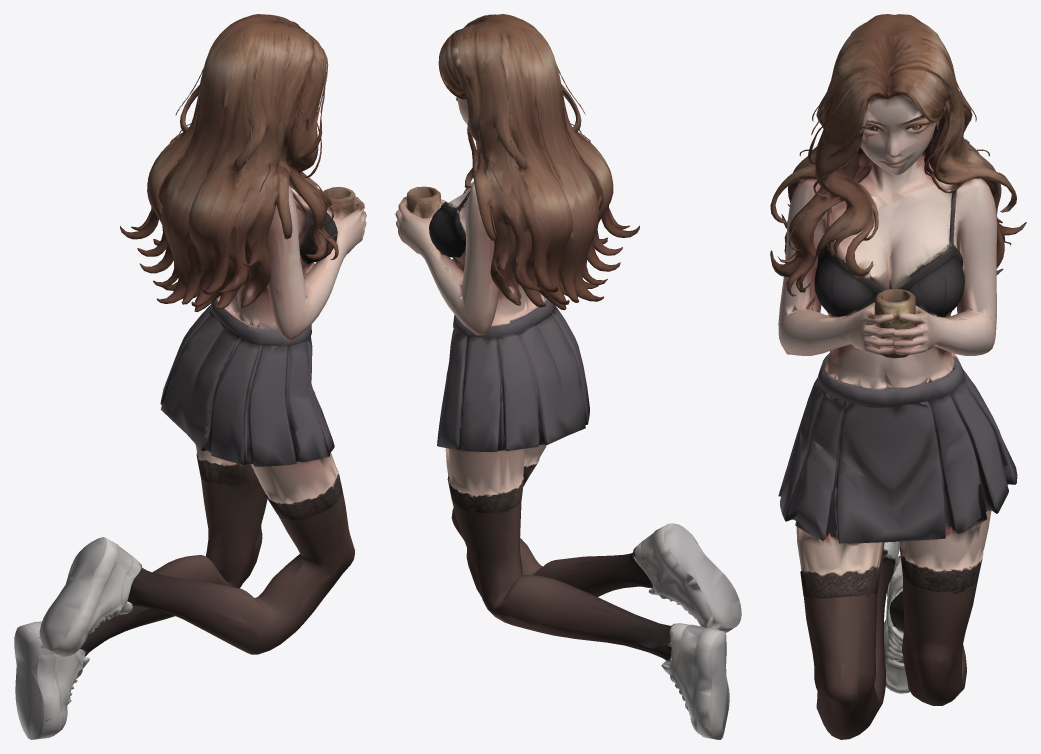
The model's file is pole_chill.glb.
The picture shows the model from 3 angles, left to right: view 1: azimuth 30°, elevation 25°; view 2: azimuth 150°, elevation 25°; view 3: azimuth 270°, elevation 25°; orthographic projection. The views are drawn at different scales.
Size of the model in its own units: 0.7228 by 1.4 by 0.4101.
1 material, 1 textured.
